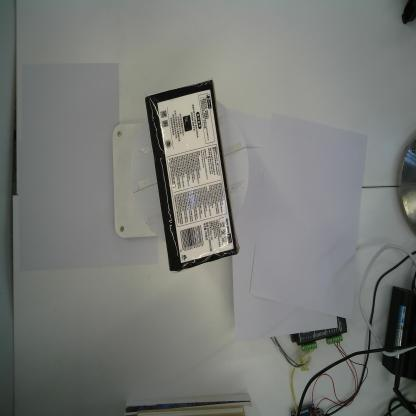Tissue: (144, 79, 240, 275)
